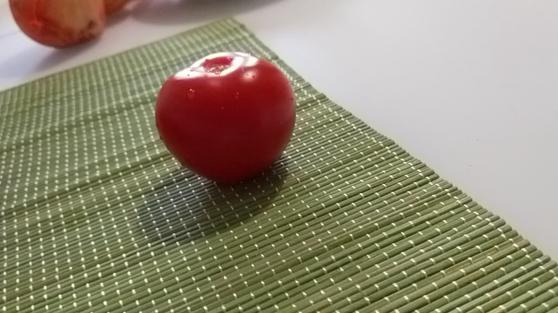tomato: (153, 53, 299, 180)
